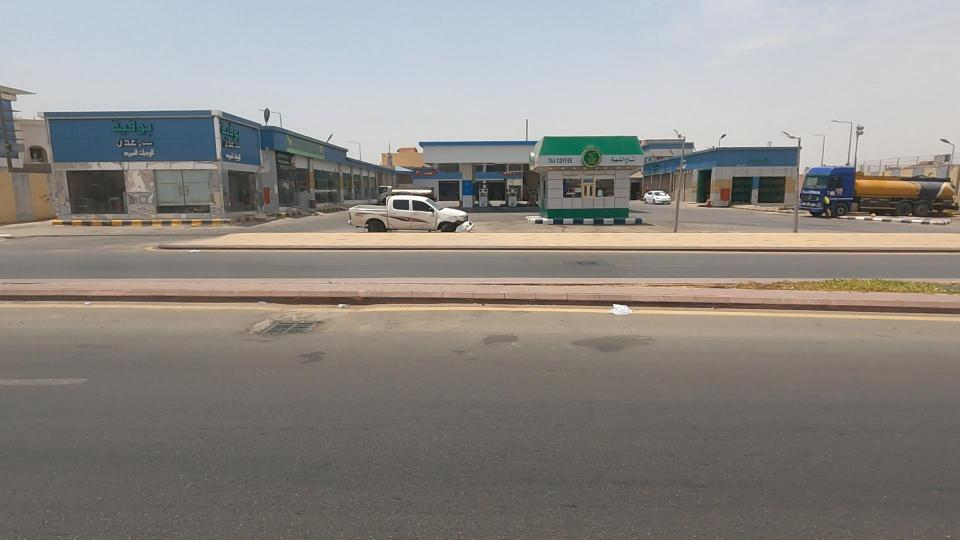GARBAGE: (566, 275, 672, 344)
